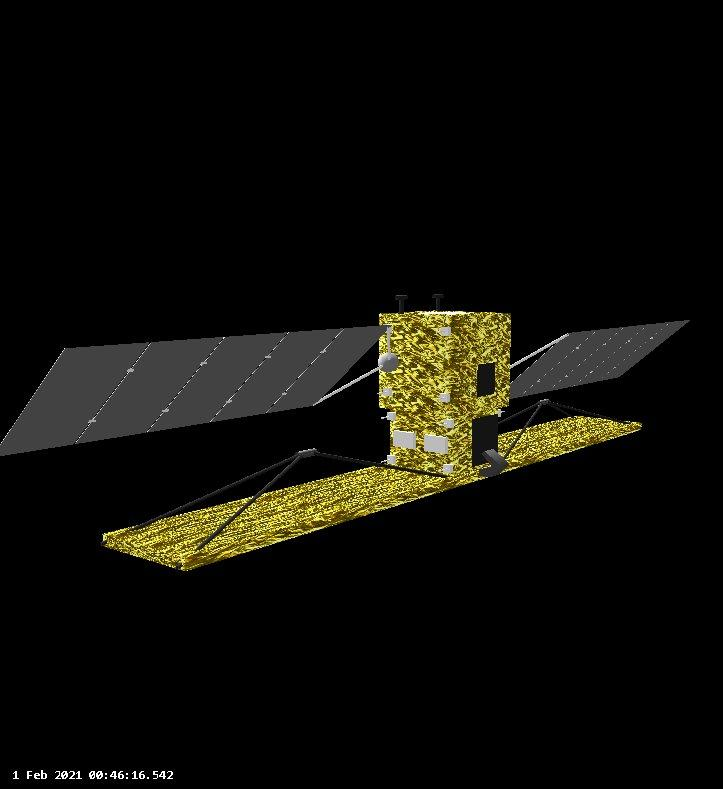body: (373, 307, 513, 467)
solar: (0, 314, 395, 461), (505, 314, 696, 401)
